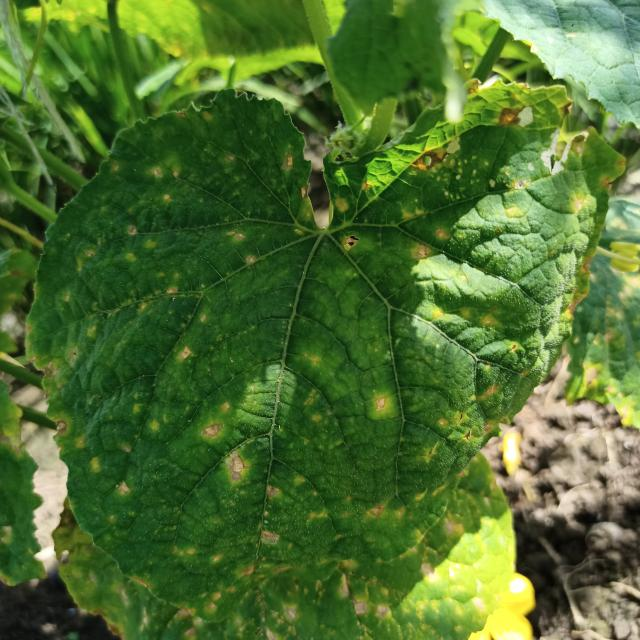disease_cucumber: (54, 111, 586, 613)
